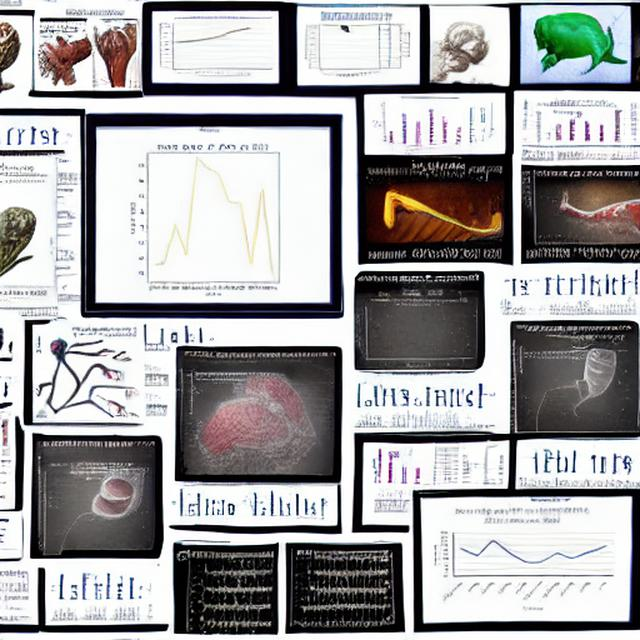Graph: (98, 132, 323, 301), (426, 502, 616, 618), (354, 297, 475, 370), (155, 14, 276, 81), (369, 95, 468, 152), (239, 486, 318, 522)
